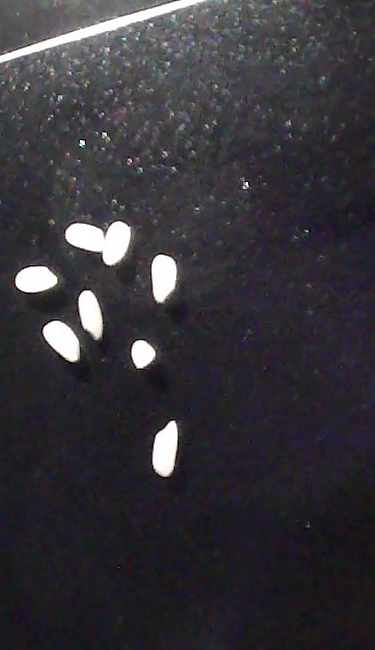broken_grain: (194, 376, 215, 426)
complete_grain: (181, 508, 211, 584), (241, 331, 277, 392), (125, 416, 154, 477), (146, 338, 177, 393), (151, 546, 172, 626), (167, 461, 197, 517), (130, 465, 147, 544)
